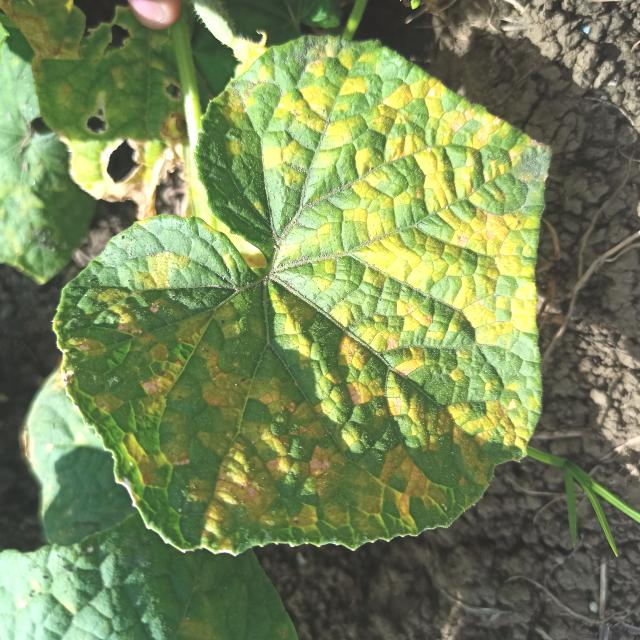disease_cucumber: (84, 47, 541, 555)
